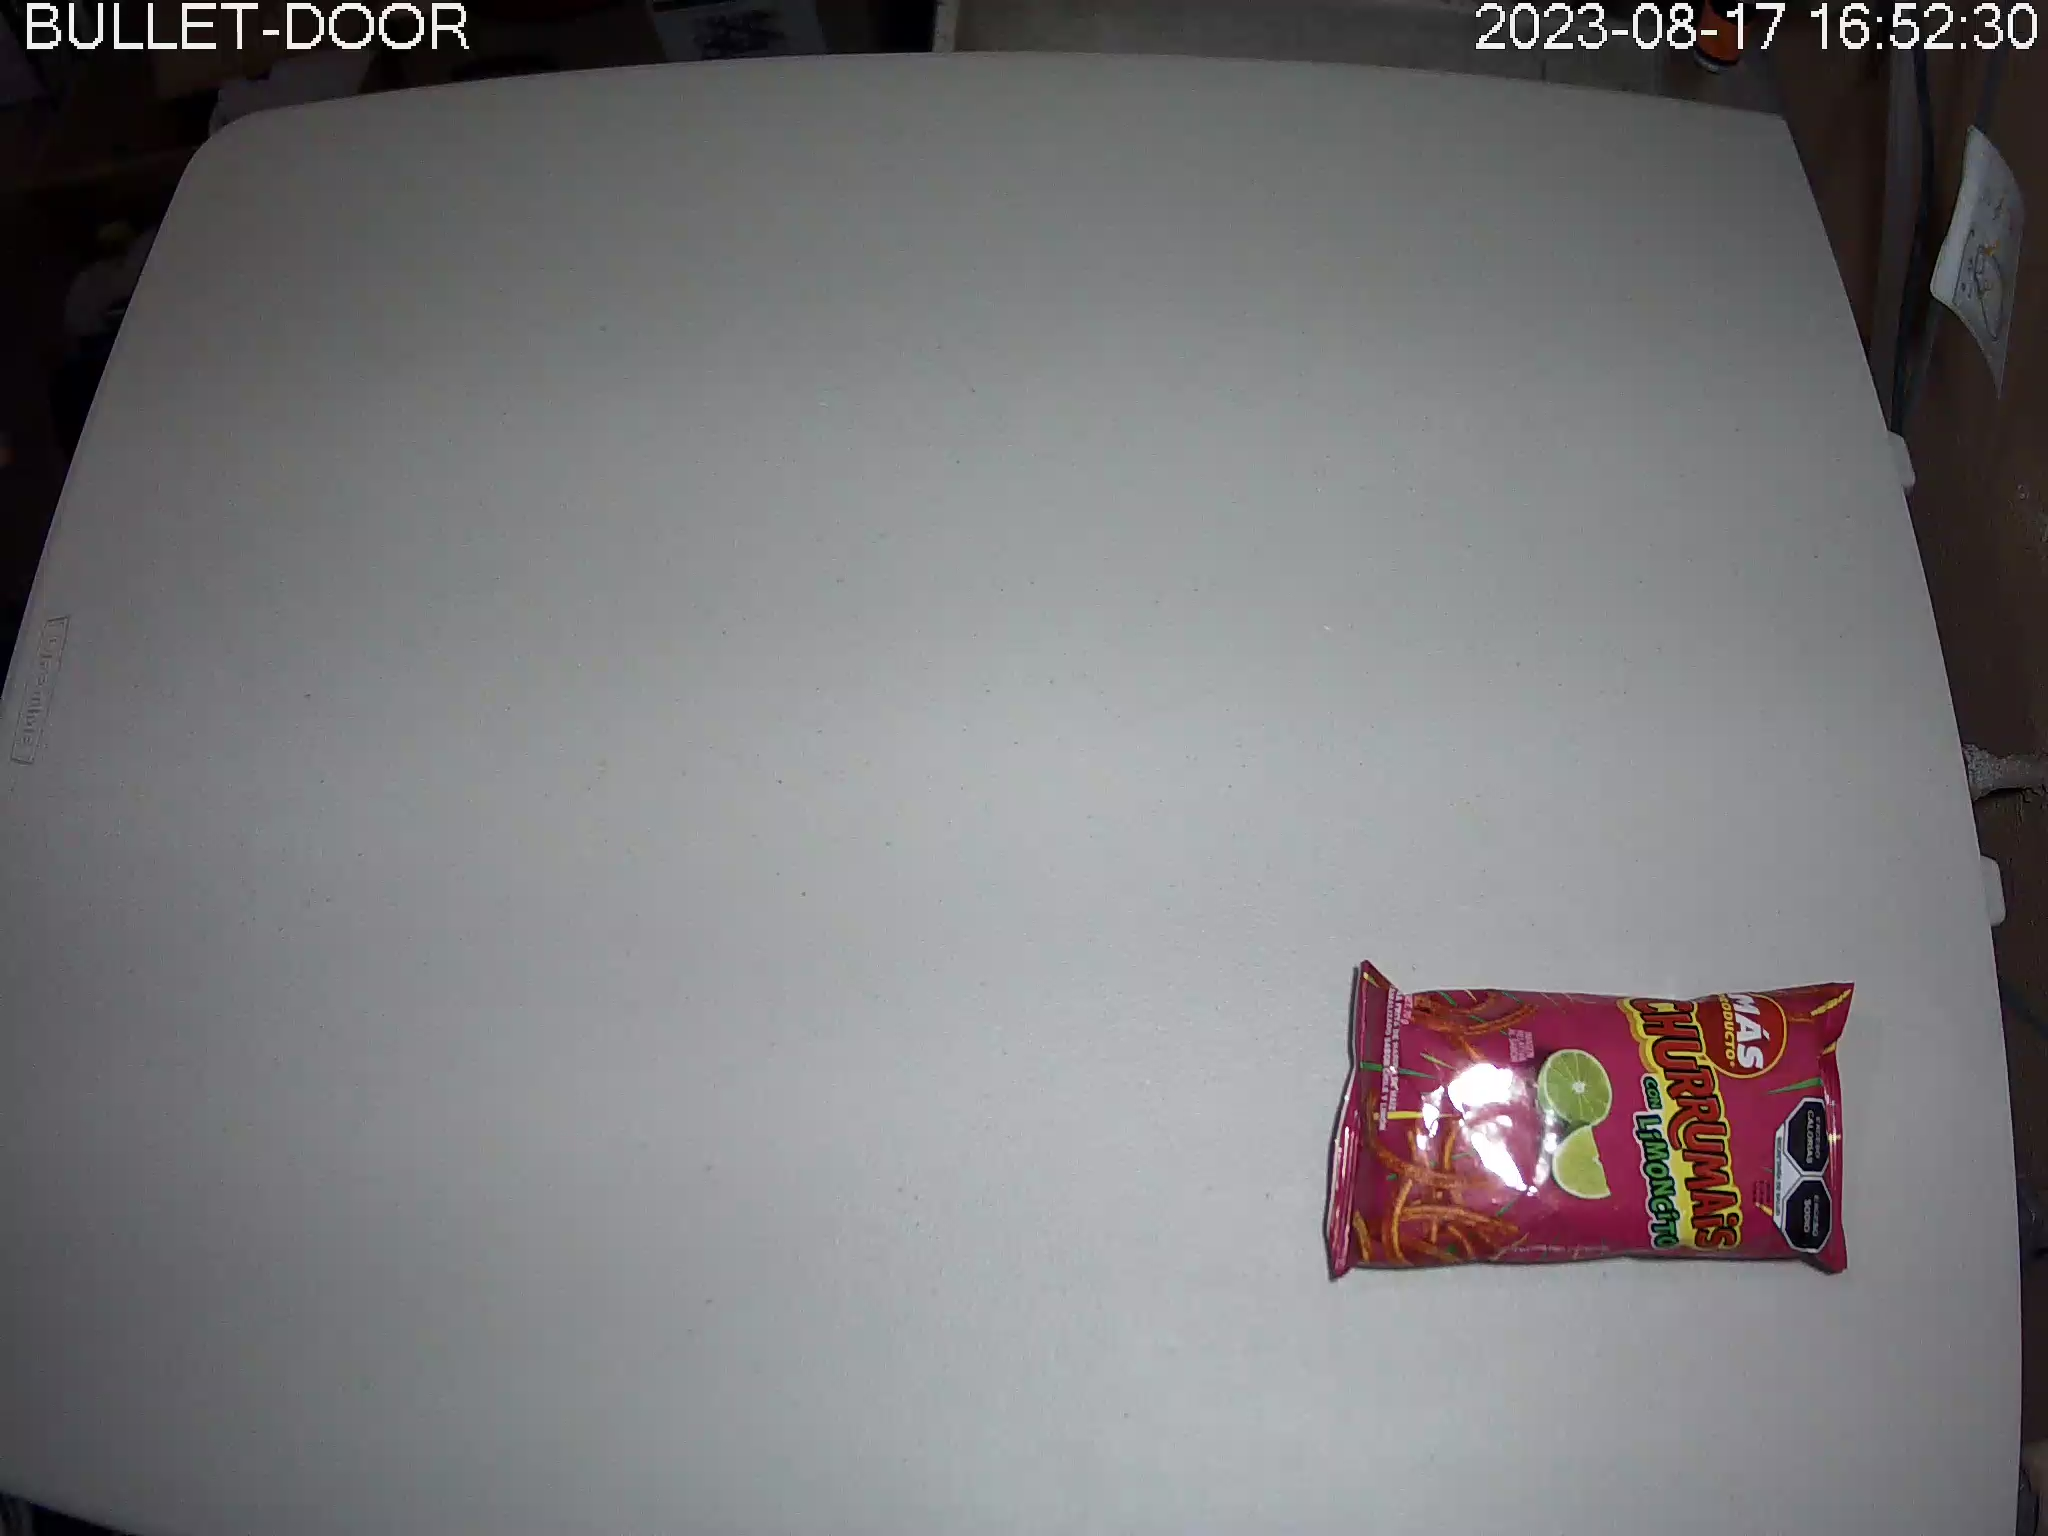Churrumais_70_F: (1322, 958, 1854, 1286)
